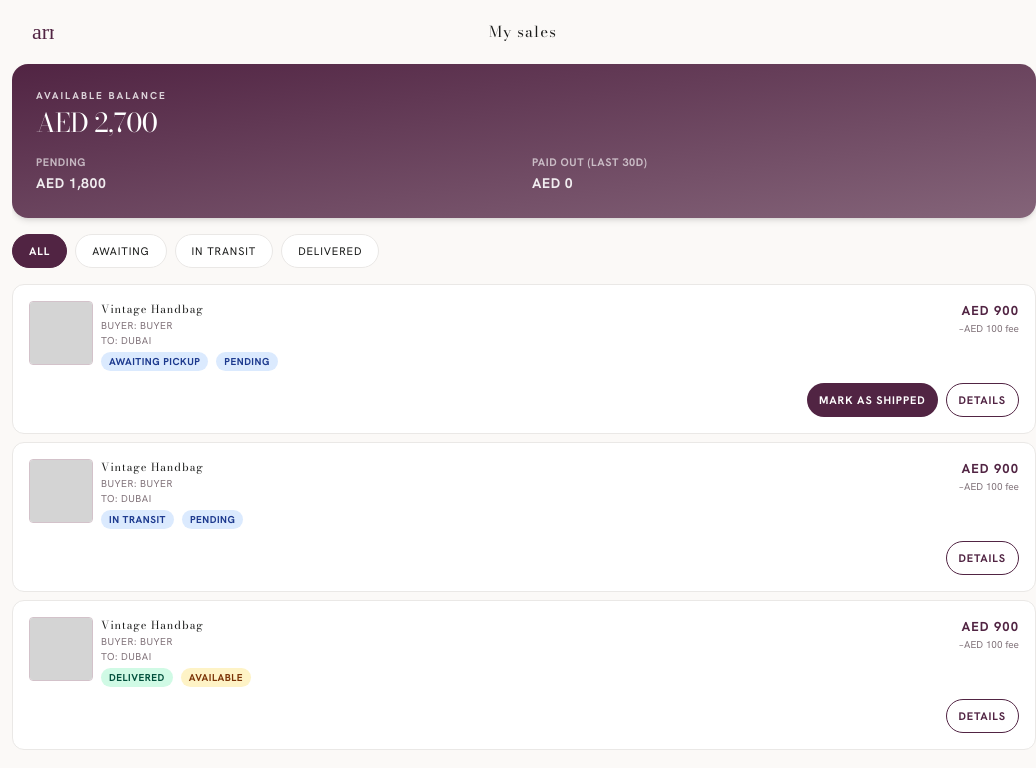
Scenario: MySalesView (D-22) › 'Delivered' filter shows only delivered sales
What coordinates should you click on to do the following:
click the tab "Delivered"
I would click on:
 (330, 251)
Its box is [281,234,379,268].
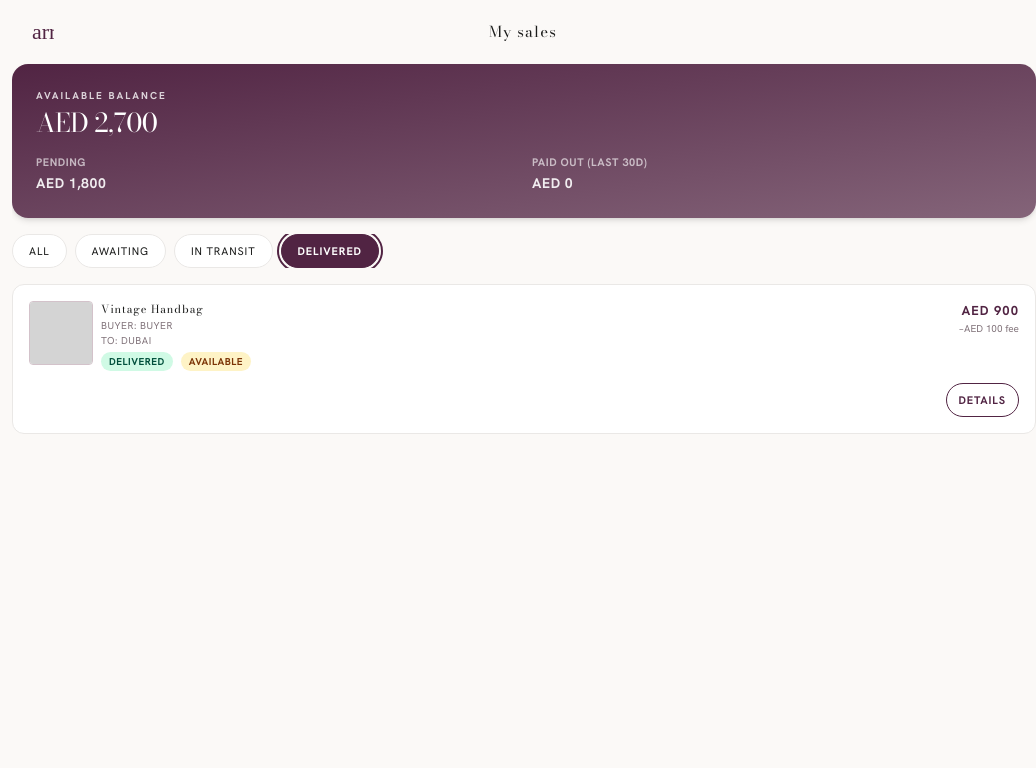
expect the text "Vintage Handbag" is shown once: met, box [101,301,204,317]
